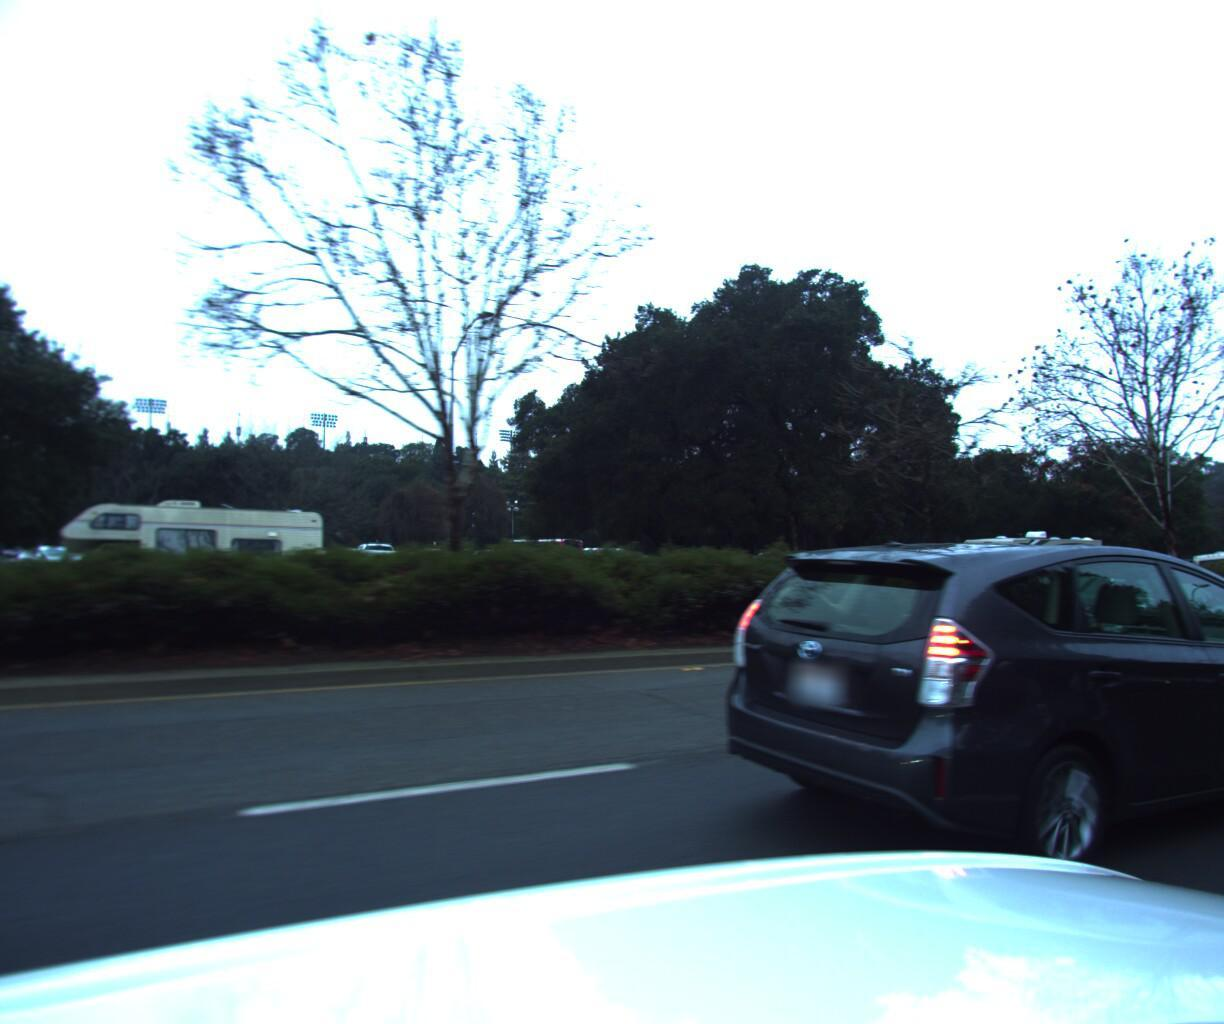car: (691, 532, 1224, 927), (888, 550, 1224, 694)
other_vehicle: (54, 487, 332, 578), (951, 520, 1102, 601), (1169, 538, 1224, 592)
